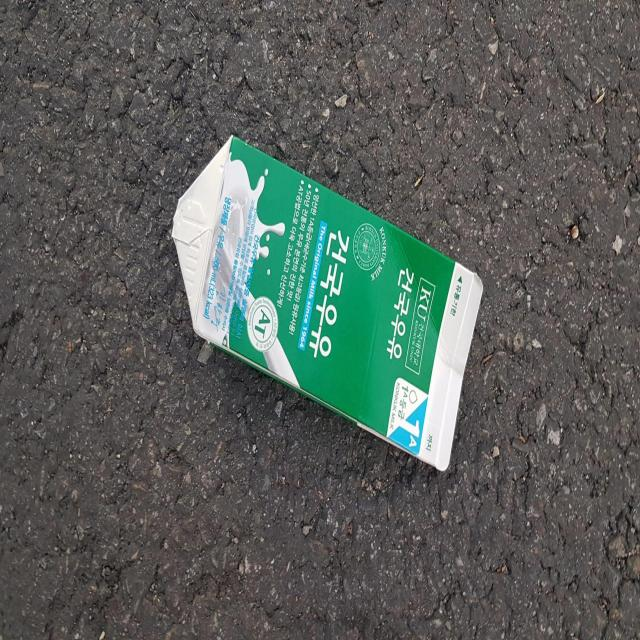paperpack: (172, 136, 483, 470)
